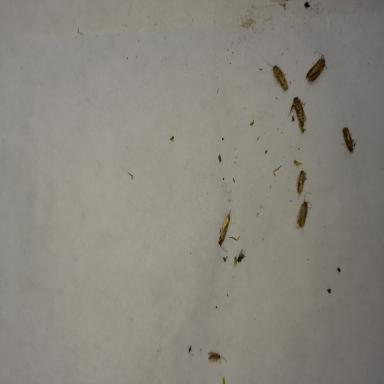pbw: (264, 61, 288, 91), (305, 51, 327, 83), (218, 208, 232, 252), (296, 192, 312, 229), (288, 97, 307, 128), (341, 127, 358, 153), (295, 170, 307, 200), (207, 351, 227, 365)
